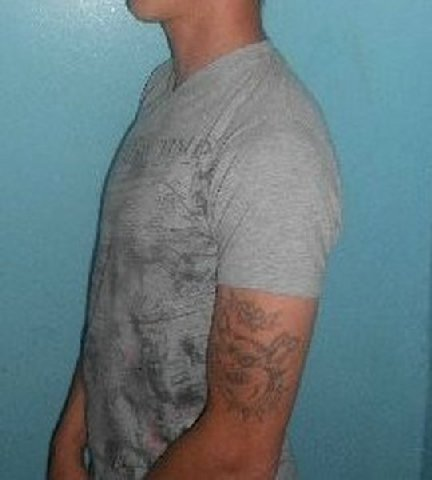tatu6_drakon: (202, 278, 310, 432)
